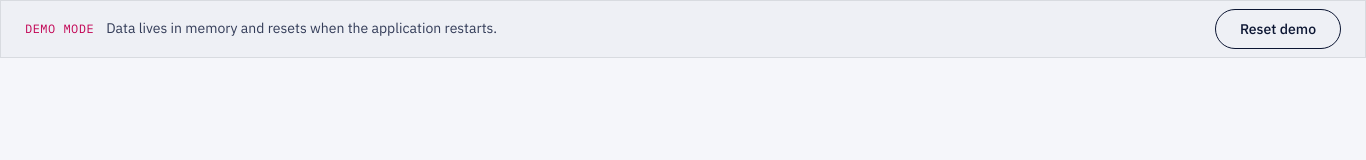
DemoModeNotice › shows the pending state while resetting
The image size is (1366, 160).
Click the button "Reset demo".
click(1278, 29)  # box [1215,9,1341,49]
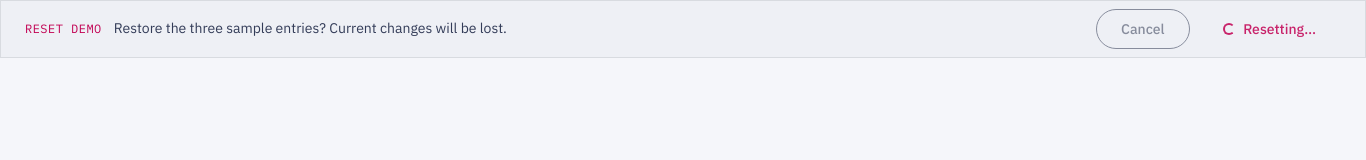
Now the button "Resetting…" is disabled, box [1198,9,1341,49]
Now the button "Cancel" is disabled, box [1096,9,1190,49]
